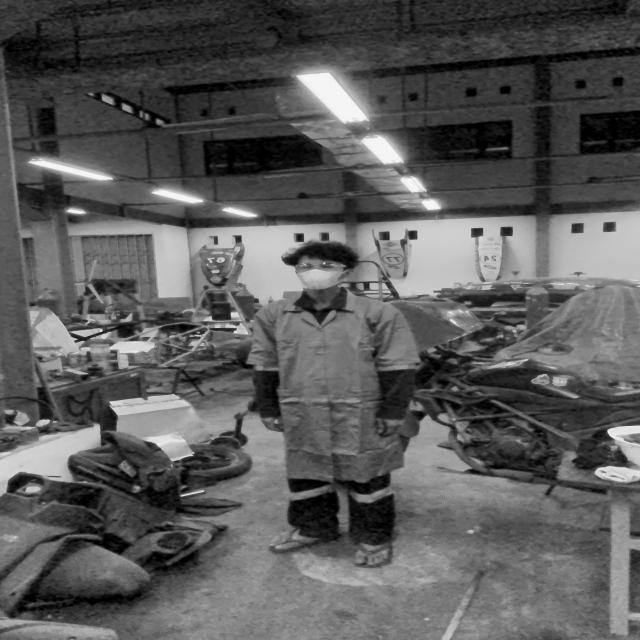face_mask: (294, 258, 347, 289)
glasses: (292, 258, 353, 273)
hand_noglove: (251, 411, 293, 437), (374, 412, 411, 438)
head_nohelmet: (287, 239, 357, 265)
person: (247, 239, 420, 575)
